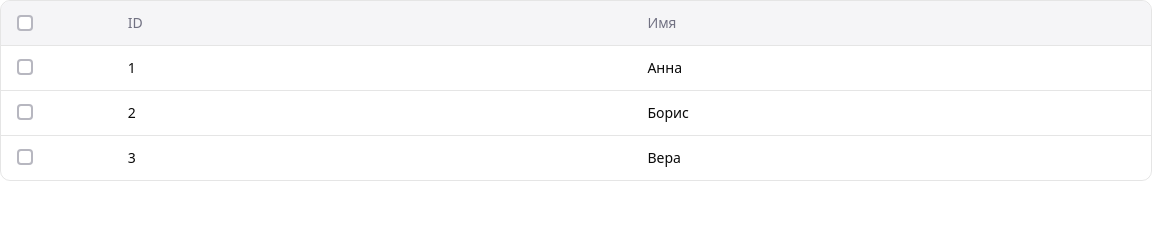
Table bulkActions › показывает панель только при выбранных строках
Step 1. Click the checkbox named "Выбрать строку" in the row of "Анна" → x=25, y=66, box x1=17 y1=58 x2=33 y2=74
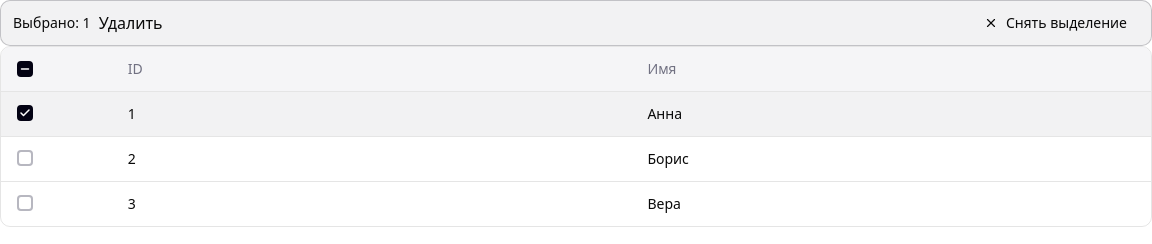
Step 2. Click the checkbox named "Выбрать строку" in the row of "Борис" → x=25, y=158, box x1=17 y1=150 x2=33 y2=166
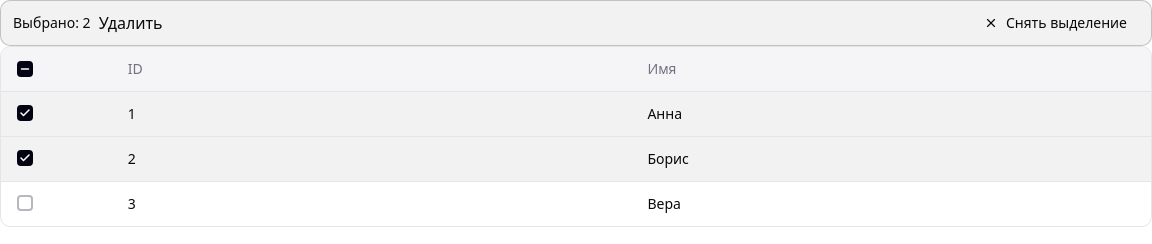
Now the element showing "Выбрано: 2 Удалить Снять выделение" is shown, box x1=0 y1=0 x2=1151 y2=46
Now the text "Выбрано: 2" is shown, box x1=13 y1=13 x2=91 y2=33
